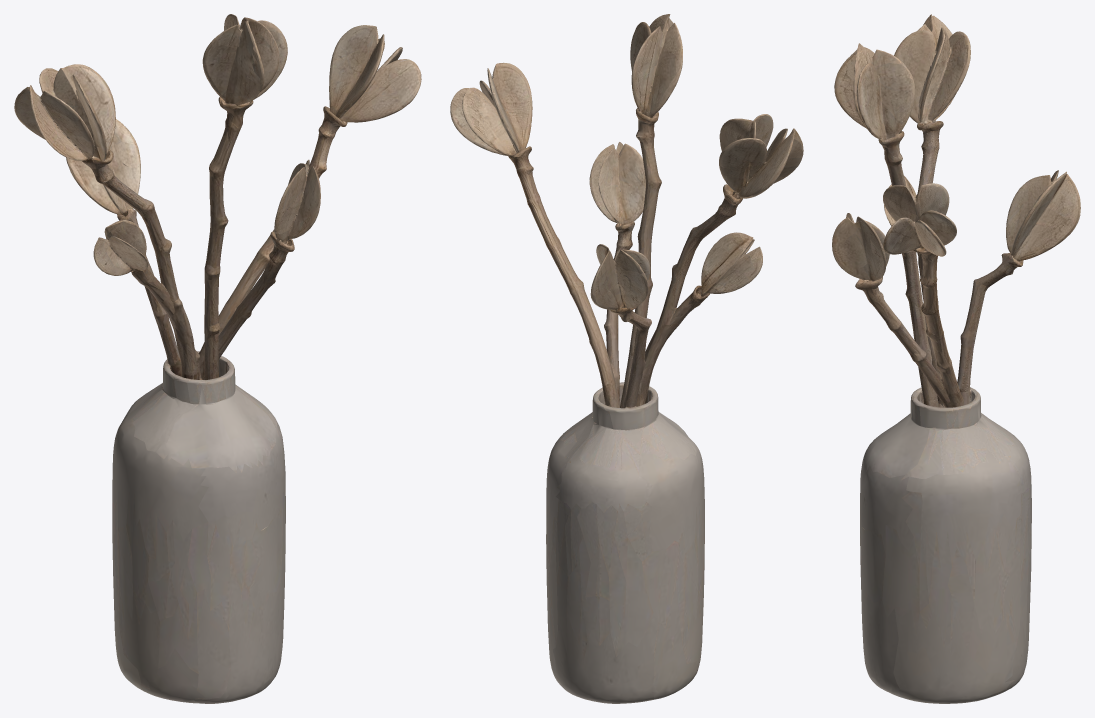
3 views of the same model, side by side, from view 1: azimuth 30°, elevation 25°; view 2: azimuth 150°, elevation 25°; view 3: azimuth 270°, elevation 25° (orthographic). The views are drawn at different scales.
Visible parts, largest first — view 1: Mesh_0; view 2: Mesh_0; view 3: Mesh_0.
Part boxes in pixels (bbox=[...]): Mesh_0: bbox=[14, 14, 421, 703]; Mesh_0: bbox=[450, 14, 803, 703]; Mesh_0: bbox=[832, 14, 1080, 703].
Size of the model in its own units: 0.4316 by 0.7538 by 0.2684.
1 material, 1 textured.
